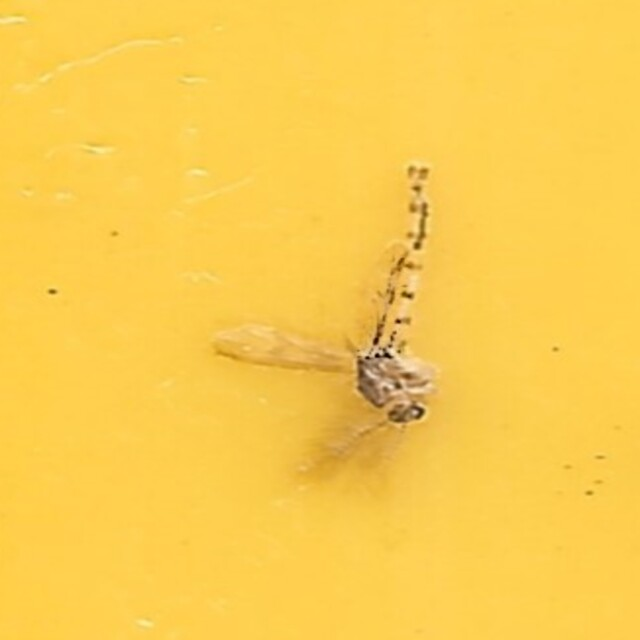Nematocera: (196, 153, 444, 487)
